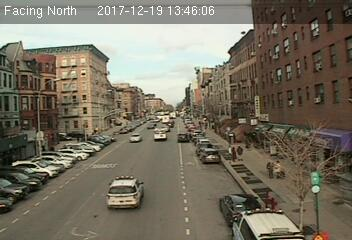car: (219, 188, 258, 221), (200, 148, 219, 162), (176, 132, 188, 141), (128, 134, 141, 142)
police: (230, 207, 302, 240), (106, 174, 146, 210)
truck: (154, 127, 167, 141)
